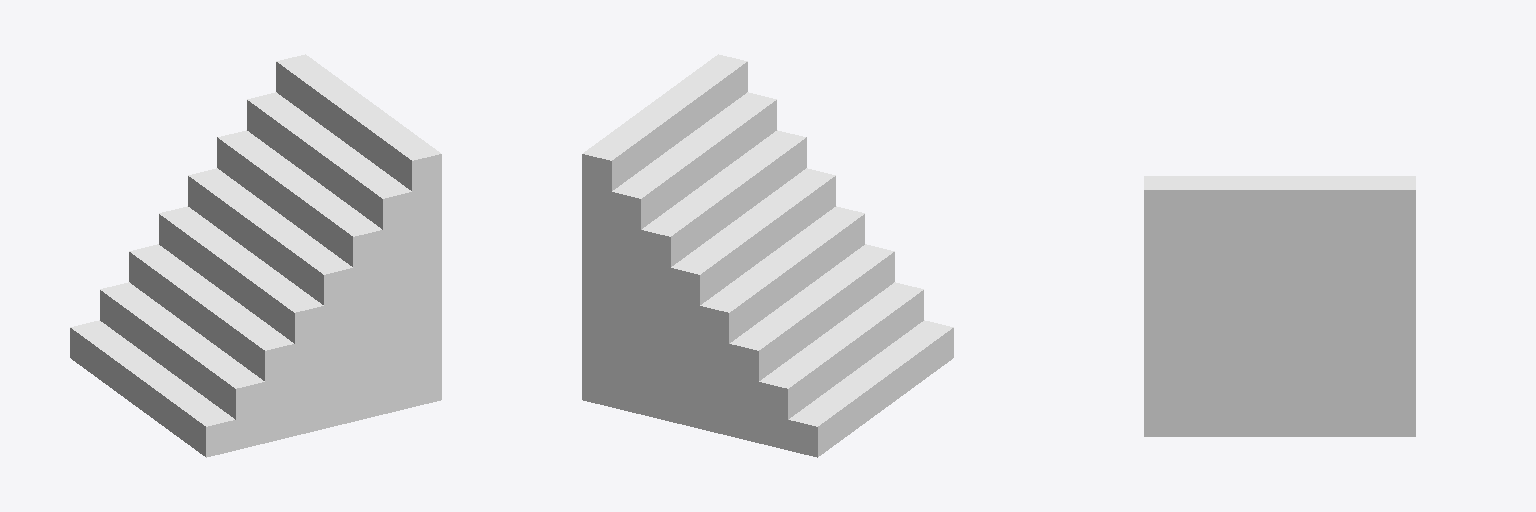
Rendered from SlopedSnowTile.obj.
3 renders of one model, left to right at view 1: azimuth 30°, elevation 25°; view 2: azimuth 150°, elevation 25°; view 3: azimuth 270°, elevation 25°, orthographic.
Visible parts, largest first — view 1: object 1; view 2: object 1; view 3: object 1.
Part boxes in pixels (x1,y1,x2,y2): object 1: (70, 54, 441, 457); object 1: (582, 54, 953, 457); object 1: (1144, 176, 1415, 436).
Size of the model in its own units: 0.8 by 0.8 by 0.8.